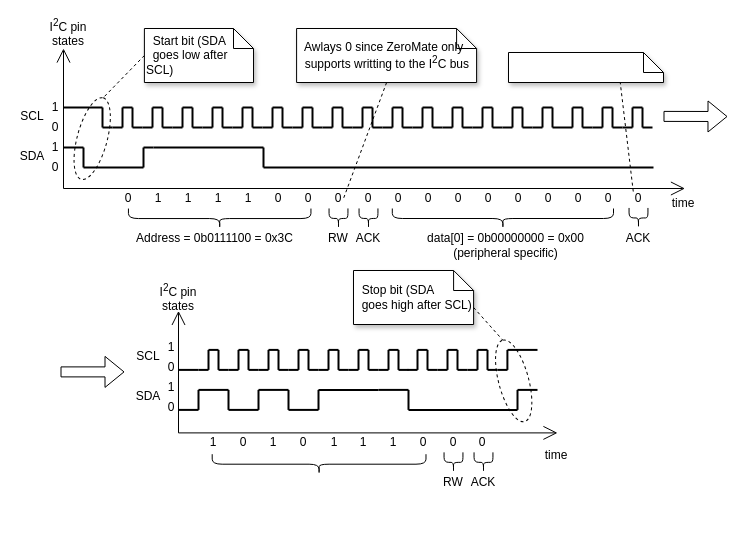
This 744x533 diagram has some shape labels left out. The centre of each missing label's shape, as x and y in pixels:
"ACK is supposed to be 0" belongs at (587,69).
"data[1] = 0b10101110 = 0xAE (peripheral specific)" belongs at (318,463).
